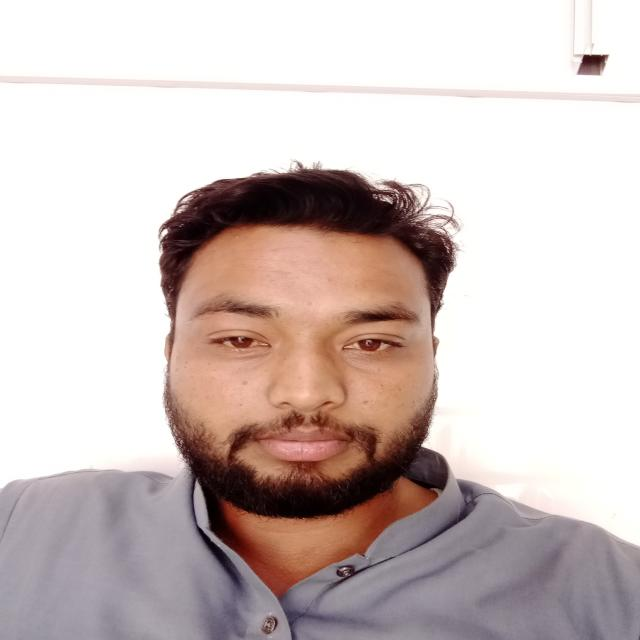Acne: (325, 273, 333, 285), (234, 231, 242, 240)
Blackheads: (360, 398, 378, 409), (204, 367, 218, 375), (182, 360, 191, 370), (295, 373, 306, 380), (412, 383, 420, 392), (238, 402, 246, 411), (241, 381, 252, 387), (264, 368, 272, 376), (379, 382, 385, 392), (397, 384, 402, 396), (298, 330, 305, 338), (175, 366, 183, 373), (188, 387, 199, 392), (204, 361, 214, 366), (203, 394, 210, 401), (280, 358, 292, 362), (190, 374, 196, 381), (375, 366, 381, 373), (415, 396, 423, 401), (351, 378, 356, 385), (195, 344, 199, 351), (178, 378, 184, 382)
